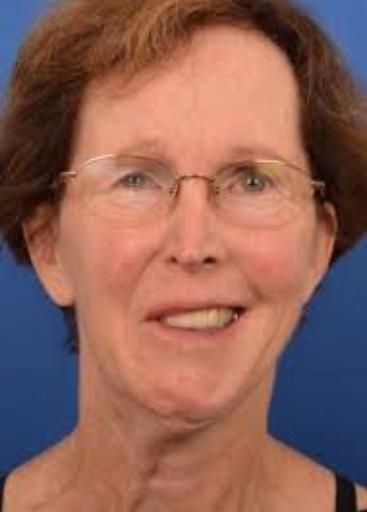left_eye: (225, 173, 279, 201)
left_lip_corner: (238, 302, 253, 320)
right_eye: (108, 172, 162, 199)
right_lip_corner: (139, 309, 158, 330)
